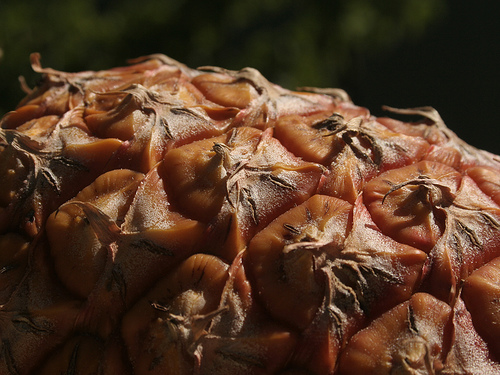pineapple: (0, 48, 498, 372)
